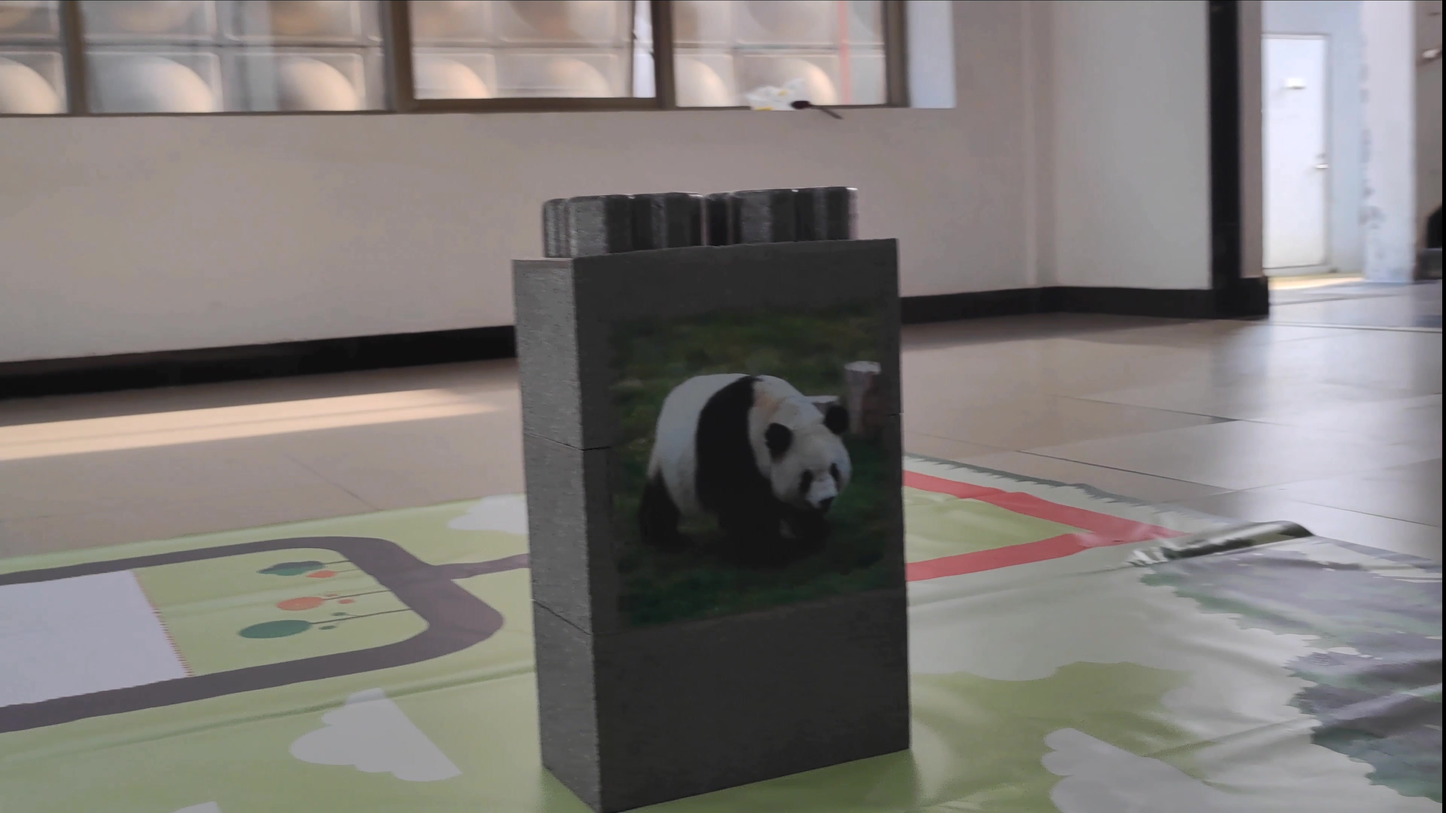panda: (629, 349, 879, 576)
